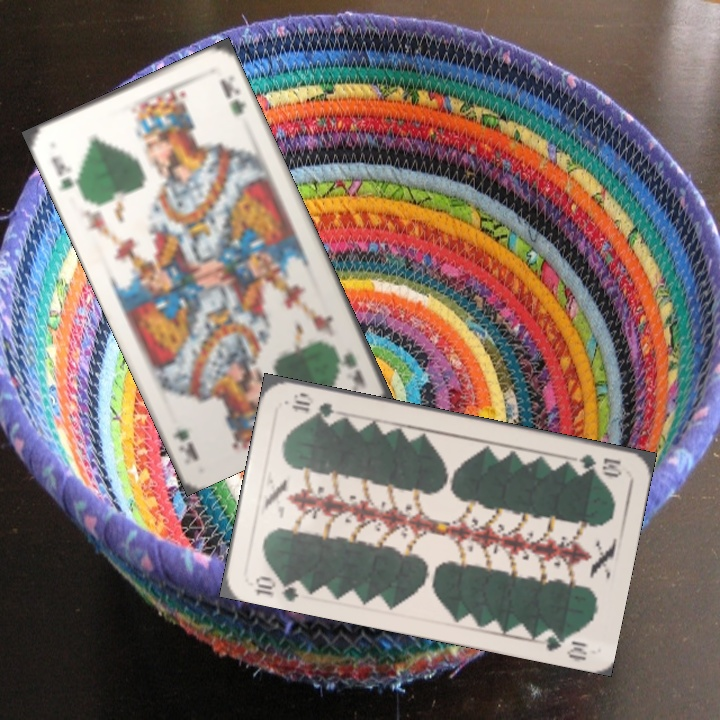G10: (251, 571, 307, 603), (567, 450, 625, 480)
GK: (47, 151, 84, 197), (338, 351, 367, 388)
